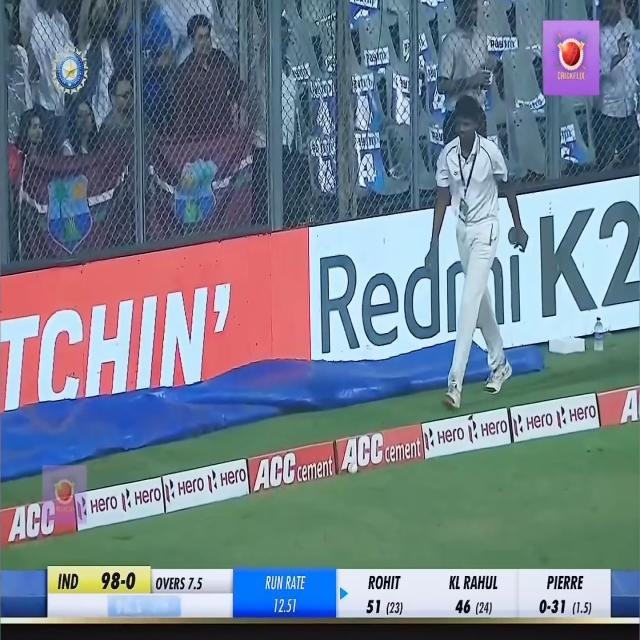partially_visible: (487, 33, 516, 54), (366, 44, 390, 68)
